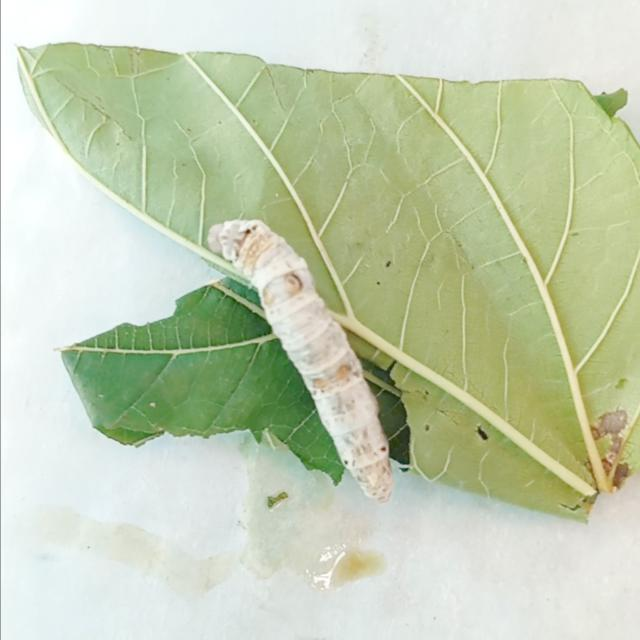Grasserie: (191, 202, 400, 511)
